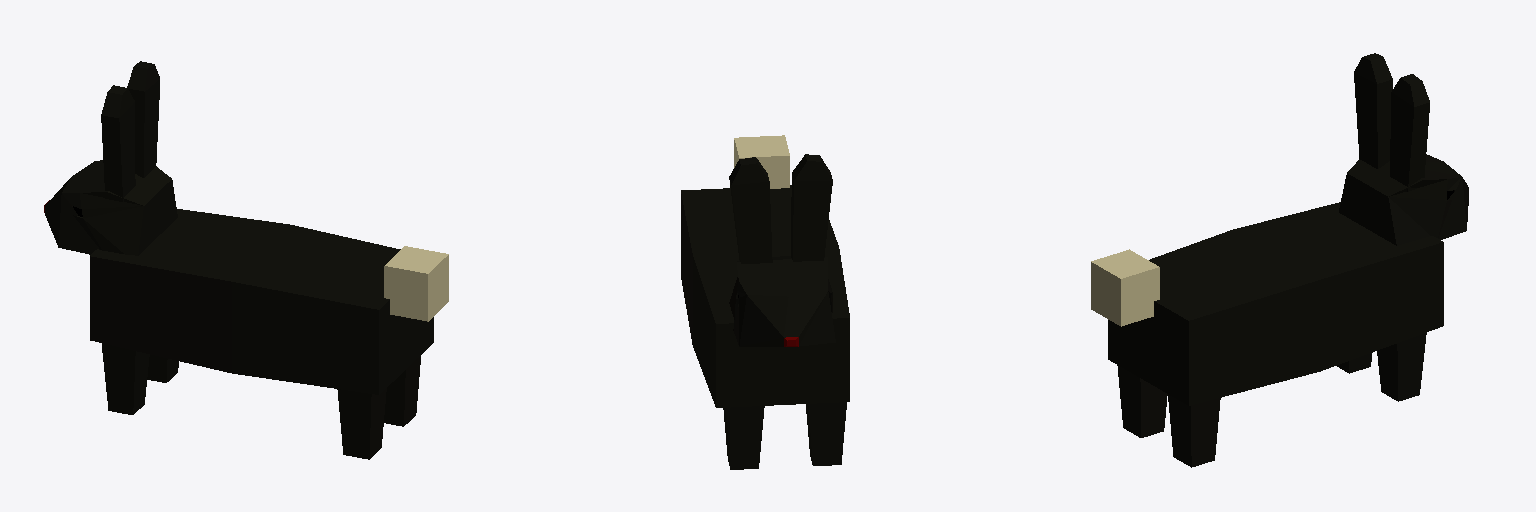
File: coelhinho.obj
The picture shows the model from 3 angles: view 1: azimuth 30°, elevation 25°; view 2: azimuth 150°, elevation 25°; view 3: azimuth 270°, elevation 25°; orthographic projection.
Visible parts, largest first — view 1: Cube.016_Cube.032; view 2: Cube.016_Cube.032; view 3: Cube.016_Cube.032.
Boxes of the visible parts, box(x1,y1,x2,y2) form: Cube.016_Cube.032: box(44, 61, 448, 459); Cube.016_Cube.032: box(681, 135, 849, 469); Cube.016_Cube.032: box(1091, 53, 1468, 467).
Bounding box in the file's own units: 0.0902 × 0.1006 × 0.1113.